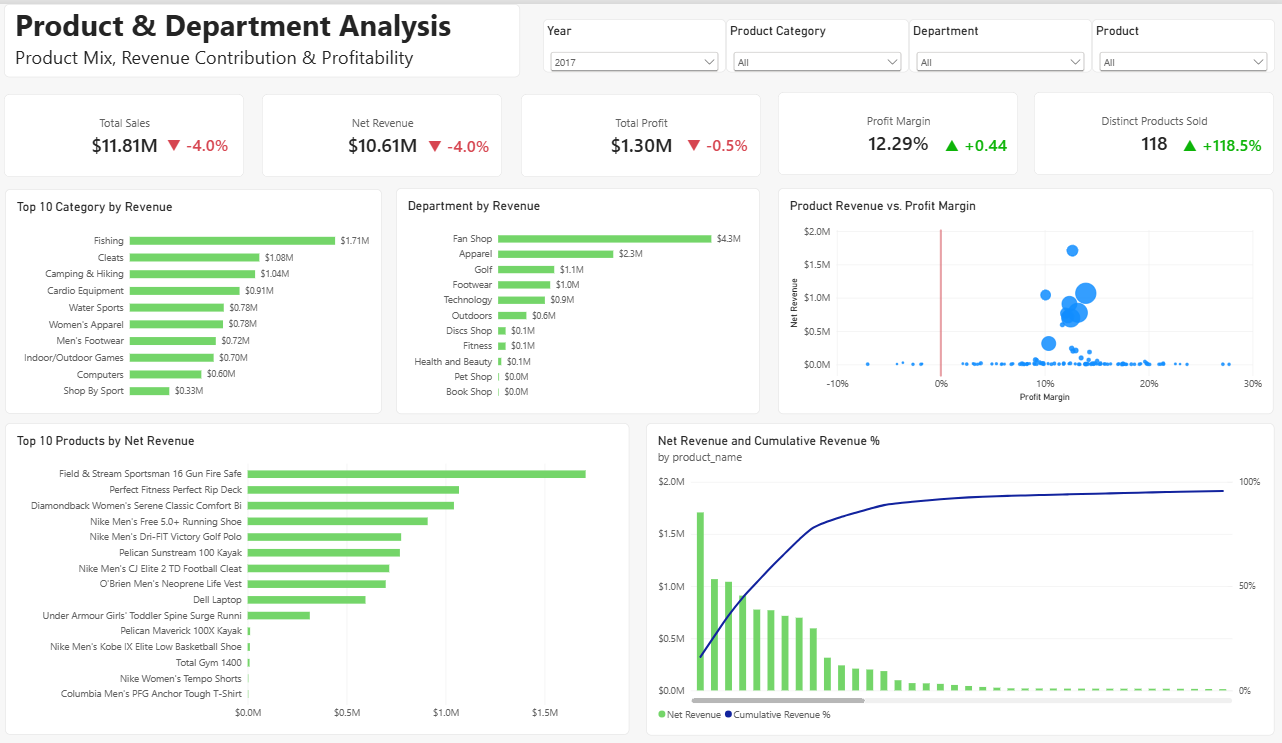

The page's visual inventory and layout, read from the dashboard file:
{"tool":"powerbi","page":{"name":"Product & Department Analysis","canvas":[1920,1080],"ordinal":3},"visuals":[{"type":"slicer","title":"Year","fields":{"Values":["dim_date.year","dim_date.month_name"]},"box":[835,21.7,266.7,78.3],"z":0},{"type":"slicer","title":"Product Category","fields":{"Values":["dim_category.category_name"]},"box":[1101.7,21.7,266.7,78.3],"z":1000},{"type":"slicer","title":"Department","fields":{"Values":["dim_department.department_name"]},"box":[1368.3,21.7,266.7,78.3],"z":2000},{"type":"slicer","title":"Product","fields":{"Values":["dim_product.product_name"]},"box":[1635,21.7,266.7,78.3],"z":3000},{"type":"textbox","box":[48.3,0,753.3,106.7],"z":4000},{"type":"group","id":"g1","title":"Group 1","box":[48.1,131.3,350,121.7],"z":5000},{"type":"cardVisual","fields":{"Data":["_measures.Total Sales"]},"box":[48.1,131.3,350,121.7],"z":5000,"group":"g1"},{"type":"cardVisual","fields":{"Data":["_measures.Distinct Products Sold"]},"box":[1550.5,128.2,350,121.7],"z":6000,"group":"g3"},{"type":"group","id":"g2","title":"Group 6","box":[424.6,131.3,350.2,121.1],"z":6000},{"type":"cardVisual","fields":{"Data":["_measures.Net Revenue"]},"box":[424.6,131.3,350,121.7],"z":6000,"group":"g2"},{"type":"cardVisual","fields":{"Data":["_measures.Total Profit"]},"box":[803.1,131.6,350,121.7],"z":6000,"group":"g4"},{"type":"cardVisual","fields":{"Data":["_measures.YoY Growth & Sales Diff Check"]},"box":[285.7,173.2,106.2,60],"z":6000,"group":"g1"},{"type":"cardVisual","fields":{"Data":["_measures.Profit Margin"]},"box":[1177.6,128.2,350,121.7],"z":7000},{"type":"group","id":"g3","title":"Group 6","box":[1550.5,128.2,350.9,123.2],"z":8000},{"type":"group","id":"g4","title":"Group 6","box":[803.1,131.6,350.9,121.5],"z":9000},{"type":"clusteredBarChart","title":"Top 10 Category by Revenue","fields":{"Y":["_measures.Net Revenue"],"Category":["dim_category.category_name"]},"box":[50,270.3,549.9,328.1],"z":10000},{"type":"clusteredBarChart","title":"Department by Revenue","fields":{"Y":["_measures.Net Revenue"],"Category":["dim_department.department_name"]},"box":[620.2,268.7,531.2,329.6],"z":11000},{"type":"clusteredBarChart","title":"Top 10 Products by Net Revenue","fields":{"Category":["dim_product.product_name"],"Y":["_measures.Net Revenue"]},"box":[50,610.8,910.8,454.6],"z":12000},{"type":"scatterChart","title":"Product Revenue vs. Profit Margin","fields":{"X":["_measures.Profit Margin"],"Size":["_measures.Total Quantity"],"Y":["_measures.Net Revenue"],"Category":["dim_product.product_name"]},"box":[1177.9,268.7,723.3,329.6],"z":13000},{"type":"cardVisual","fields":{"Data":["_measures.Total Profit YoY"]},"box":[1044.4,173.8,108.3,60],"z":14000},{"type":"cardVisual","fields":{"Data":["_measures.Profit Margin YoY"]},"box":[1420.6,173.8,106.3,60.7],"z":15000},{"type":"cardVisual","fields":{"Data":["_measures.Net Revenue YoY"]},"box":[666.3,174.6,108.3,60],"z":15003,"group":"g2"},{"type":"cardVisual","fields":{"Data":["_measures.Distinct Products Sold YoY"]},"box":[1768.2,173.8,131.6,60.7],"z":16000},{"type":"lineClusteredColumnComboChart","fields":{"Category":["dim_product.product_name"],"Y":["_measures.Net Revenue"],"Y2":["_measures.Cumulative Revenue %"]},"box":[984.2,610.8,917,456.2],"z":17000}]}

Visuals, with their boxes in screenshot pixels (x1, y1, x2, y2), scaled from the page's 1920x1080 canvas onto the 1282x743 screenshot:
"Year" slicer: pyautogui.locateOnScreen(558, 15, 736, 69)
"Product Category" slicer: pyautogui.locateOnScreen(736, 15, 914, 69)
"Department" slicer: pyautogui.locateOnScreen(914, 15, 1092, 69)
"Product" slicer: pyautogui.locateOnScreen(1092, 15, 1270, 69)
textbox: pyautogui.locateOnScreen(32, 0, 535, 73)
"Group 1" group: pyautogui.locateOnScreen(32, 90, 266, 174)
cardVisual - _measures.Total Sales: pyautogui.locateOnScreen(32, 90, 266, 174)
cardVisual - _measures.Distinct Products Sold: pyautogui.locateOnScreen(1035, 88, 1269, 172)
"Group 6" group: pyautogui.locateOnScreen(284, 90, 517, 174)
cardVisual - _measures.Net Revenue: pyautogui.locateOnScreen(284, 90, 517, 174)
cardVisual - _measures.Total Profit: pyautogui.locateOnScreen(536, 91, 770, 174)
cardVisual - _measures.YoY Growth & Sales Diff Check: pyautogui.locateOnScreen(191, 119, 262, 160)
cardVisual - _measures.Profit Margin: pyautogui.locateOnScreen(786, 88, 1020, 172)
"Group 6" group: pyautogui.locateOnScreen(1035, 88, 1270, 173)
"Group 6" group: pyautogui.locateOnScreen(536, 91, 771, 174)
"Top 10 Category by Revenue" clusteredBarChart: pyautogui.locateOnScreen(33, 186, 401, 412)
"Department by Revenue" clusteredBarChart: pyautogui.locateOnScreen(414, 185, 769, 412)
"Top 10 Products by Net Revenue" clusteredBarChart: pyautogui.locateOnScreen(33, 420, 642, 733)
"Product Revenue vs. Profit Margin" scatterChart: pyautogui.locateOnScreen(786, 185, 1269, 412)
cardVisual - _measures.Total Profit YoY: pyautogui.locateOnScreen(697, 120, 770, 161)
cardVisual - _measures.Profit Margin YoY: pyautogui.locateOnScreen(949, 120, 1020, 161)
cardVisual - _measures.Net Revenue YoY: pyautogui.locateOnScreen(445, 120, 517, 161)
cardVisual - _measures.Distinct Products Sold YoY: pyautogui.locateOnScreen(1181, 120, 1269, 161)
lineClusteredColumnComboChart - dim_product.product_name x _measures.Net Revenue: pyautogui.locateOnScreen(657, 420, 1269, 734)
